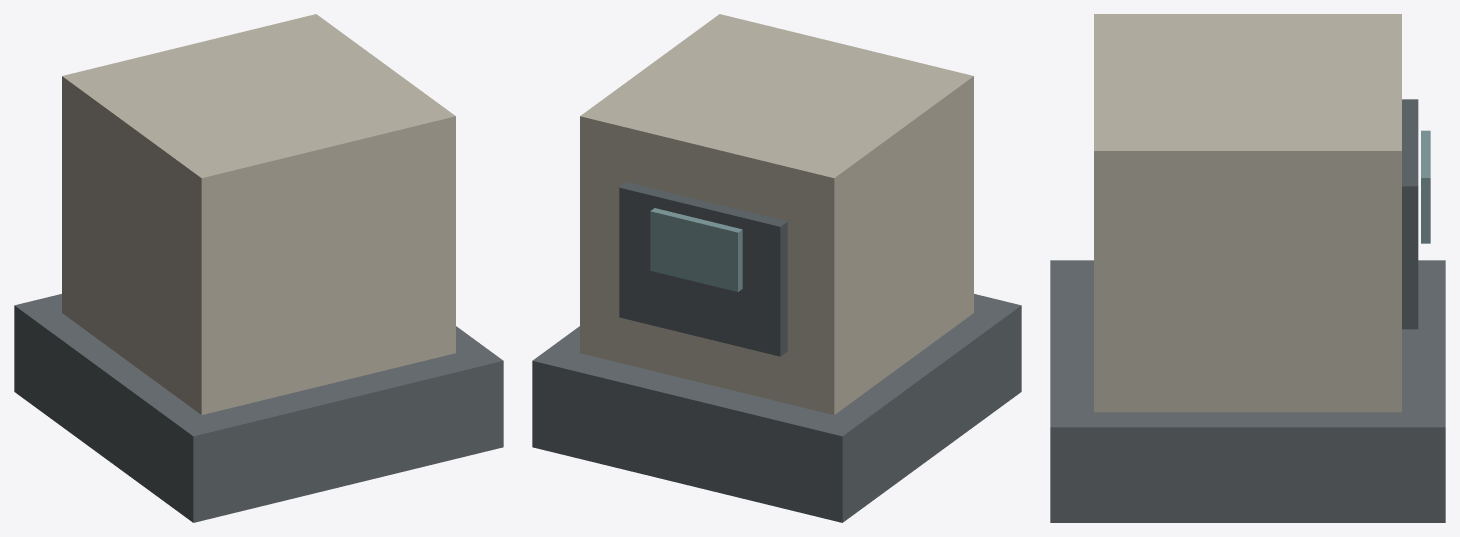
The model's file is iz3_production_compost_01.glb.
3 views of the same model, side by side, from view 1: azimuth 30°, elevation 25°; view 2: azimuth 150°, elevation 25°; view 3: azimuth 270°, elevation 25° (orthographic). The views are drawn at different scales.
Parts seen in each view (by area): view 1: cabinet, base; view 2: cabinet, base, panel, display; view 3: cabinet, base, panel, display.
Boxes of the visible parts, x1,y1,x2,y2 form: cabinet: (62, 14, 455, 414); base: (14, 294, 503, 522); cabinet: (580, 14, 973, 414); base: (532, 294, 1021, 522); panel: (619, 182, 787, 356); display: (650, 208, 742, 291); cabinet: (1094, 14, 1401, 412); base: (1050, 260, 1445, 522); panel: (1402, 99, 1418, 329); display: (1421, 130, 1430, 243).
Size of the model in its own units: 1.2 by 1.2 by 1.2.
